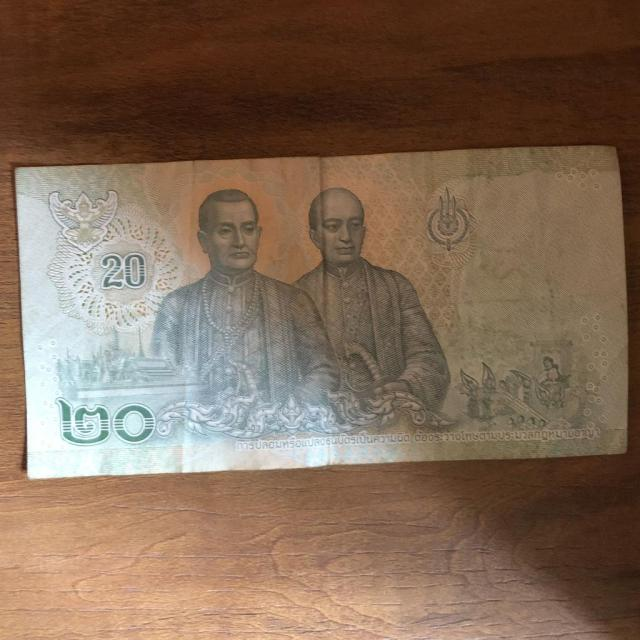THAI20: (16, 146, 628, 479)
